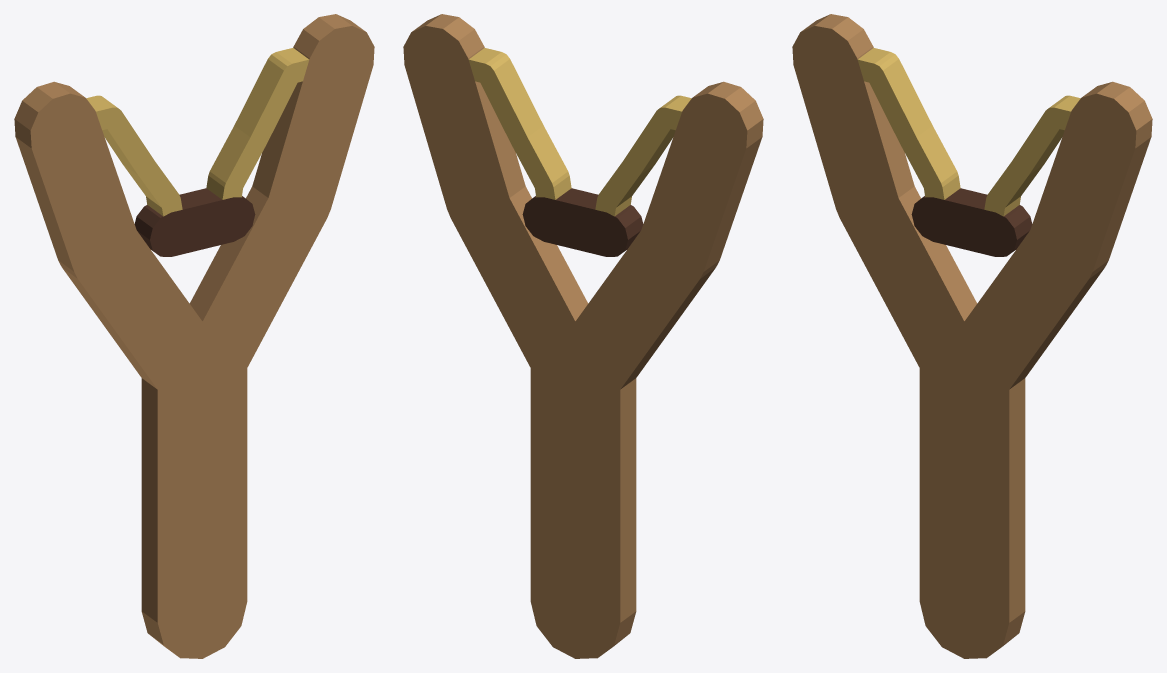
The model's file is NEW_RECOVERY_049_LOD2.fbx.
3 renders of one model, left to right at view 1: azimuth 30°, elevation 25°; view 2: azimuth 150°, elevation 25°; view 3: azimuth 330°, elevation 25°, orthographic.
Parts seen in each view (by area): view 1: Slingshot; view 2: Slingshot; view 3: Slingshot.
Part boxes in pixels (x1,y1,x2,y2): Slingshot: [14, 14, 374, 658]; Slingshot: [403, 14, 763, 658]; Slingshot: [792, 14, 1152, 658].
Bounding box in the file's own units: 153 × 12.5 × 255.
